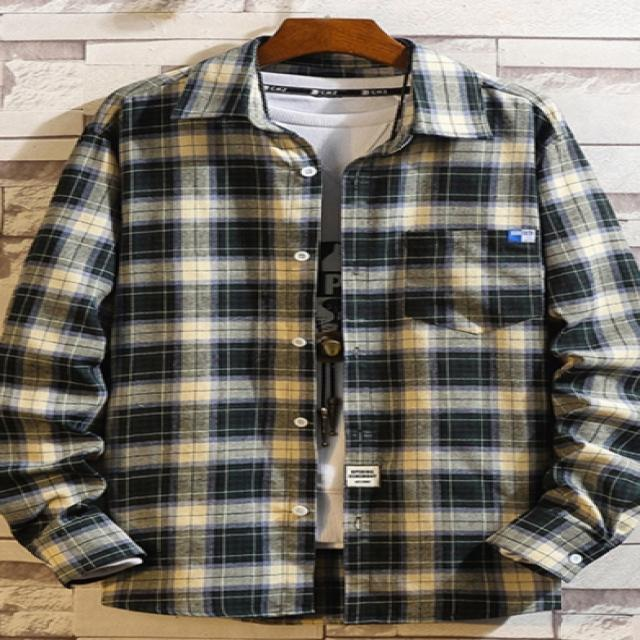plaid: (10, 45, 640, 638)
